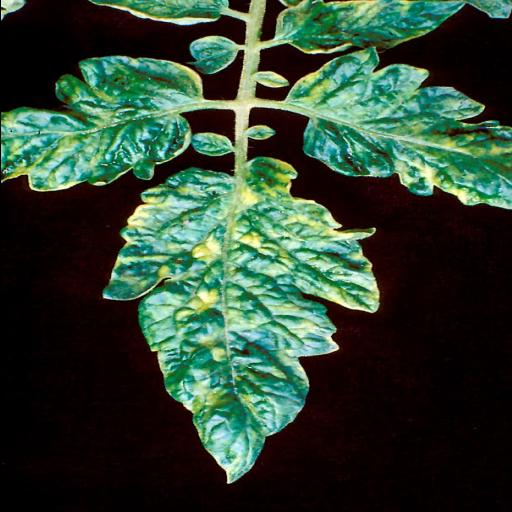Mosaic Virus: (100, 159, 380, 488), (285, 46, 512, 210), (0, 46, 204, 198), (276, 1, 466, 59)
